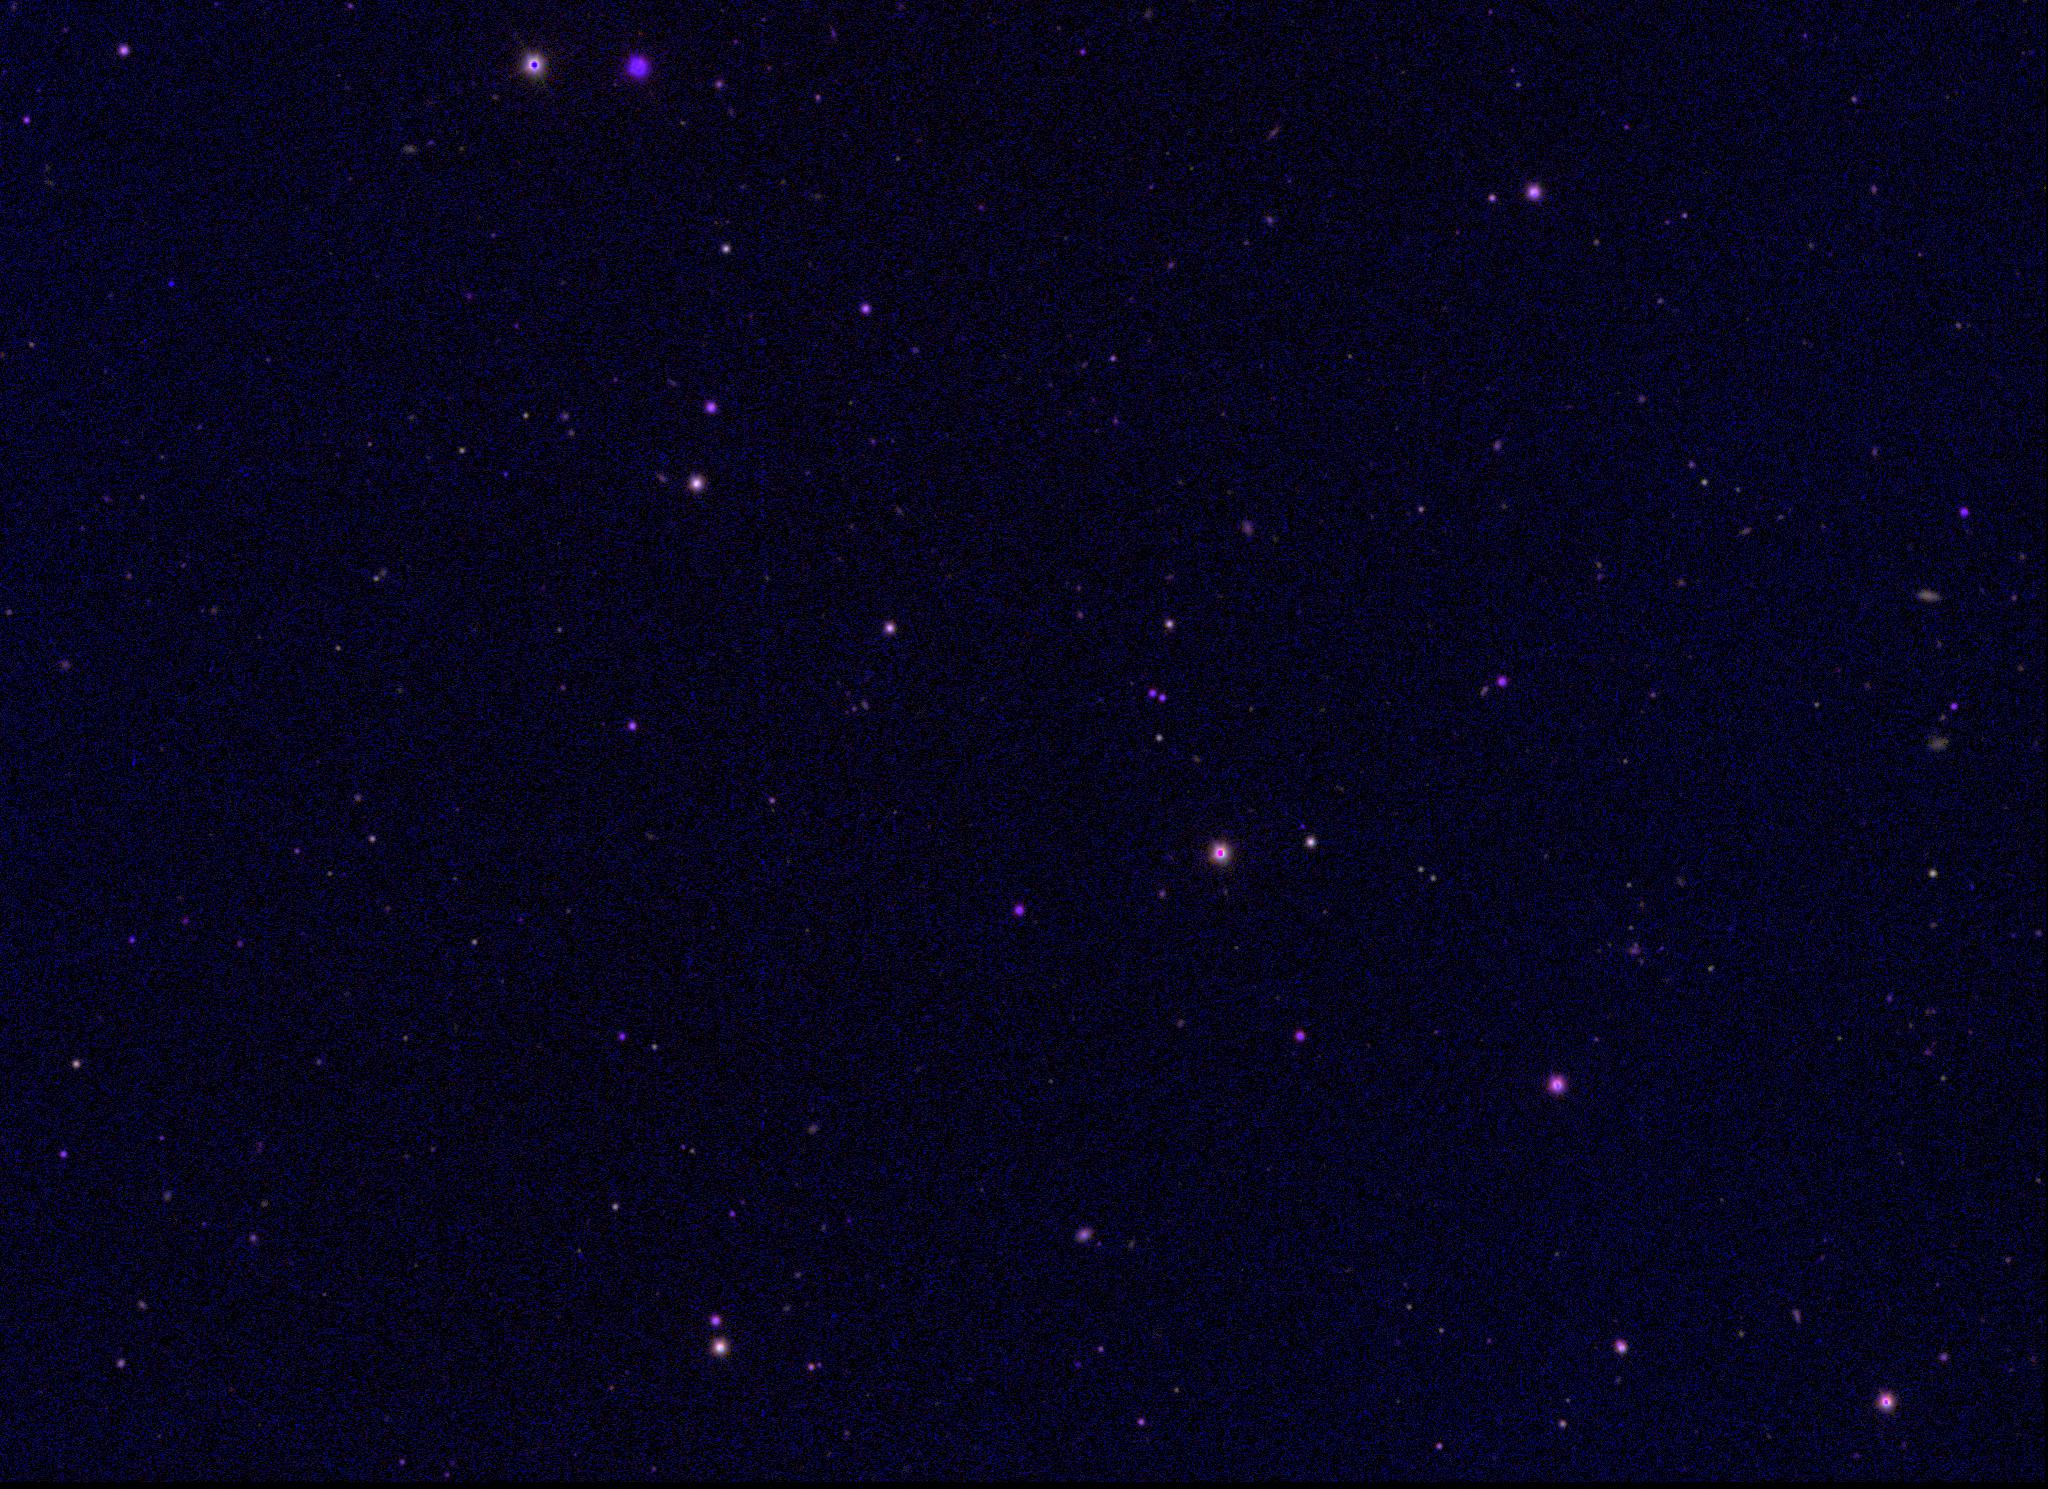L: (165, 277, 180, 291)
